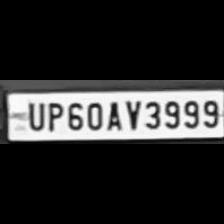0: (82, 99, 104, 131)
3: (142, 97, 160, 129)
6: (64, 100, 82, 132)
9: (160, 97, 180, 129), (200, 97, 220, 128), (180, 97, 198, 128)
A: (104, 99, 122, 131)
P: (44, 100, 64, 132)
U: (23, 99, 45, 130)
V: (122, 97, 140, 130)
